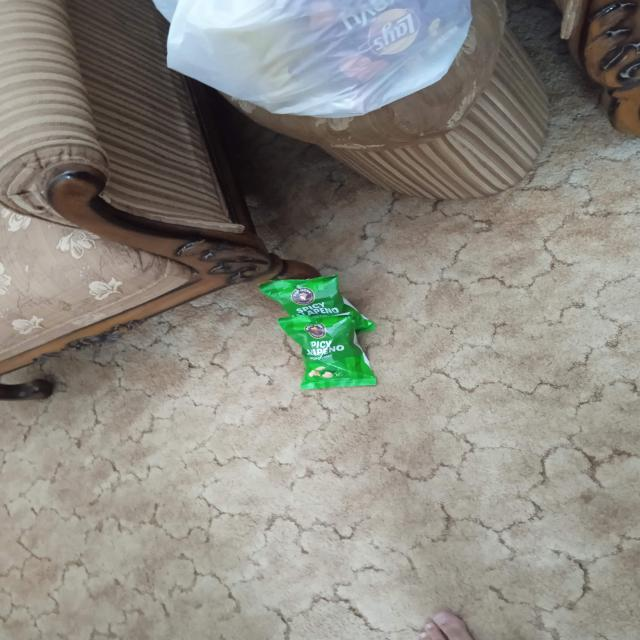Plastic: (287, 320, 369, 385), (267, 278, 355, 318)
